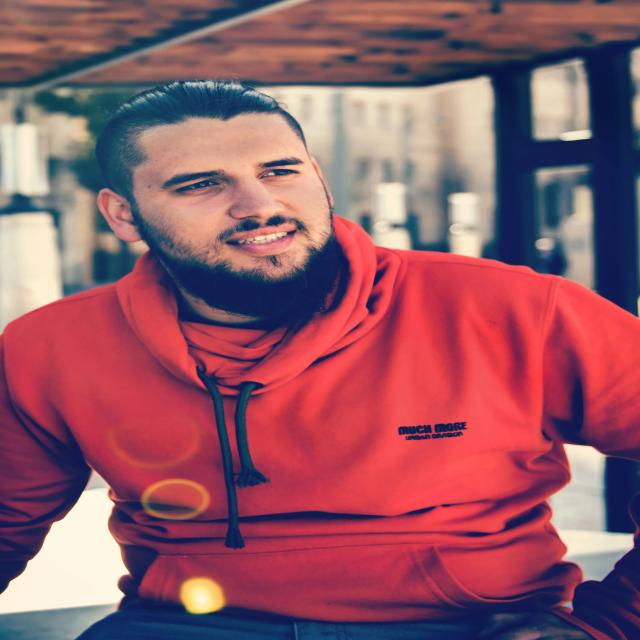human: (8, 72, 640, 640)
